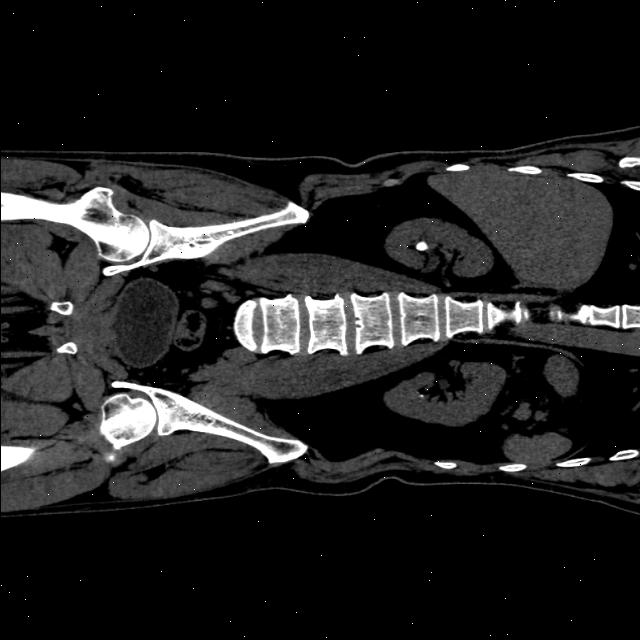kidneystone: (413, 240, 428, 251)
